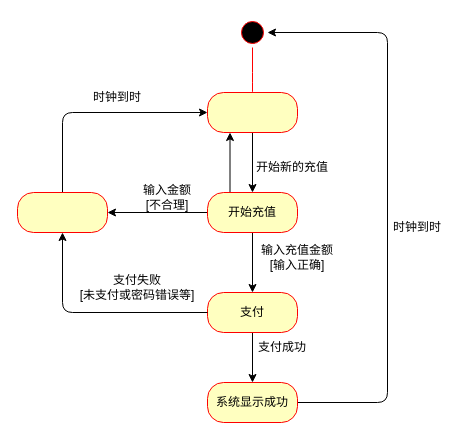
Some shapes in this 465 by 440 pixel diagram are drawn without their labels. Here are the shapes that lost their labels. From the top down, the centre of each, then its label:
At (252,112): "空闲".
At (62,212): "失败提示".
